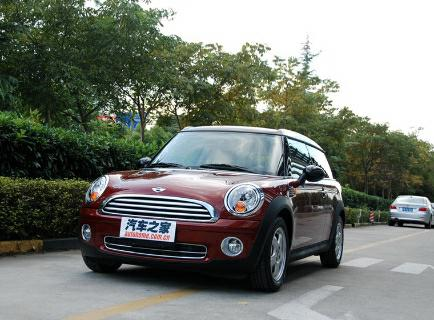MINI CLUBMAN: (77, 120, 348, 292)
